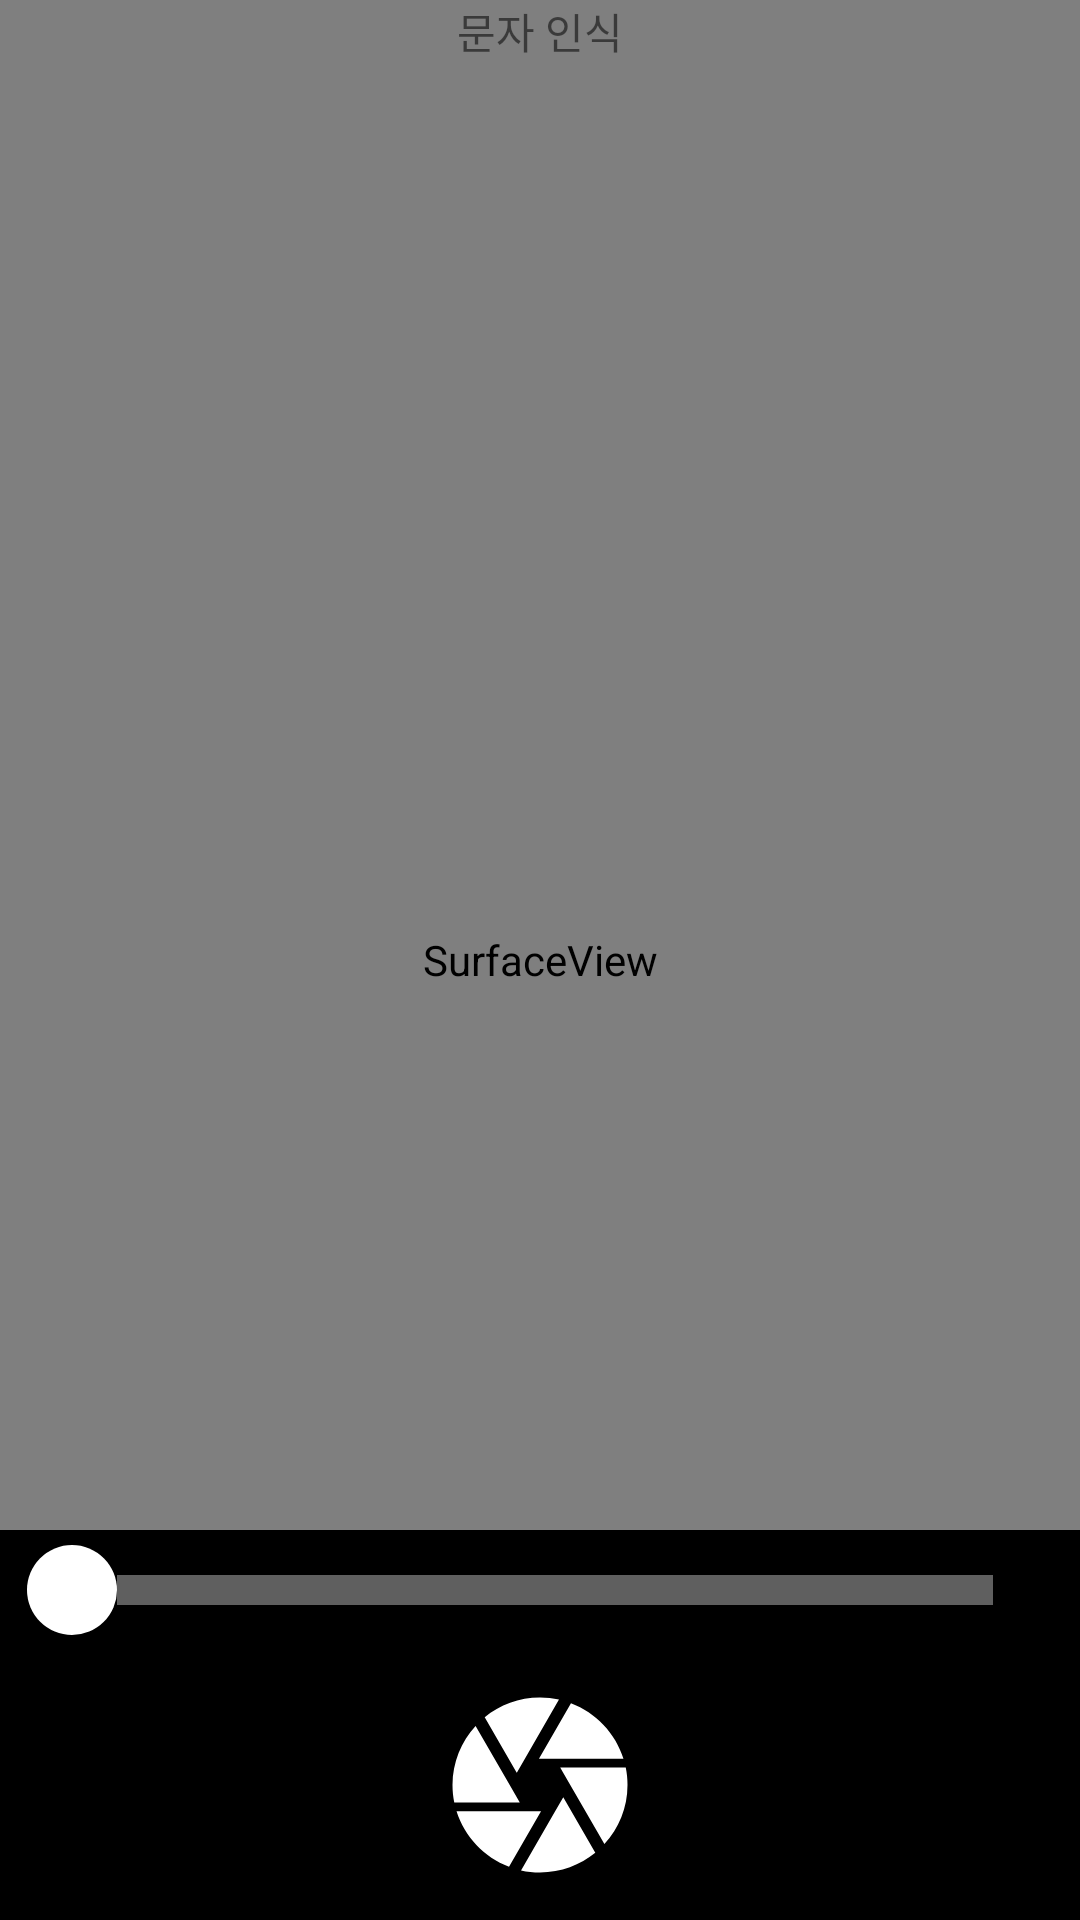

Named icons in this screenshot (1080*1920) and their bounding boxes, BBox(x1, y1, x2, y2):
camera: BBox(452, 1697, 628, 1873)
